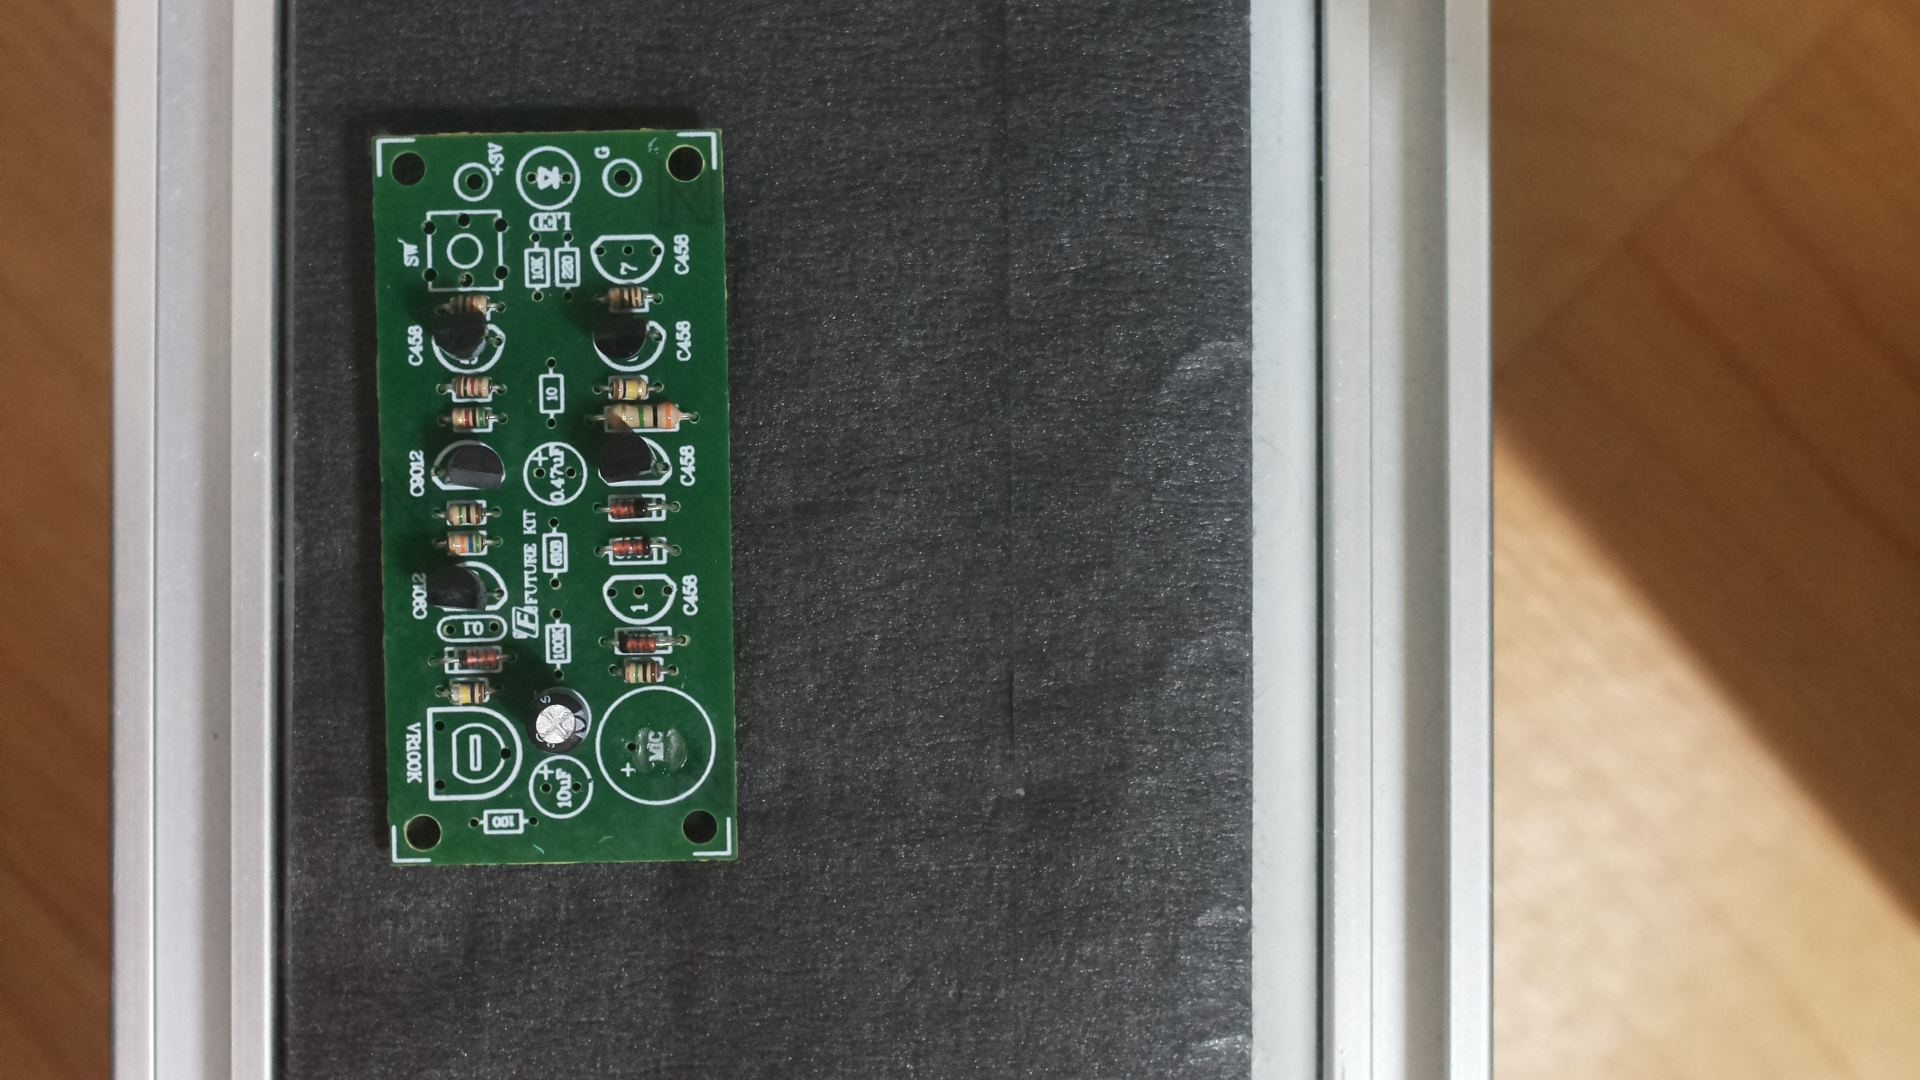A_Missing_part: (360, 123, 760, 891)
